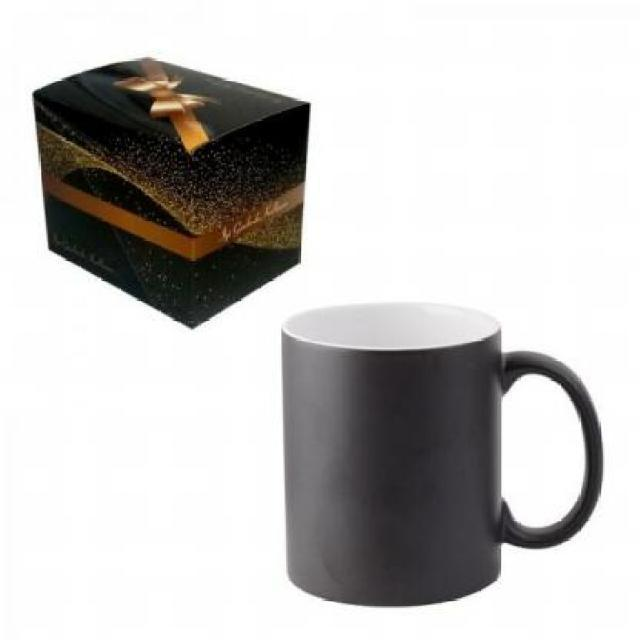taza: (278, 304, 604, 612)
